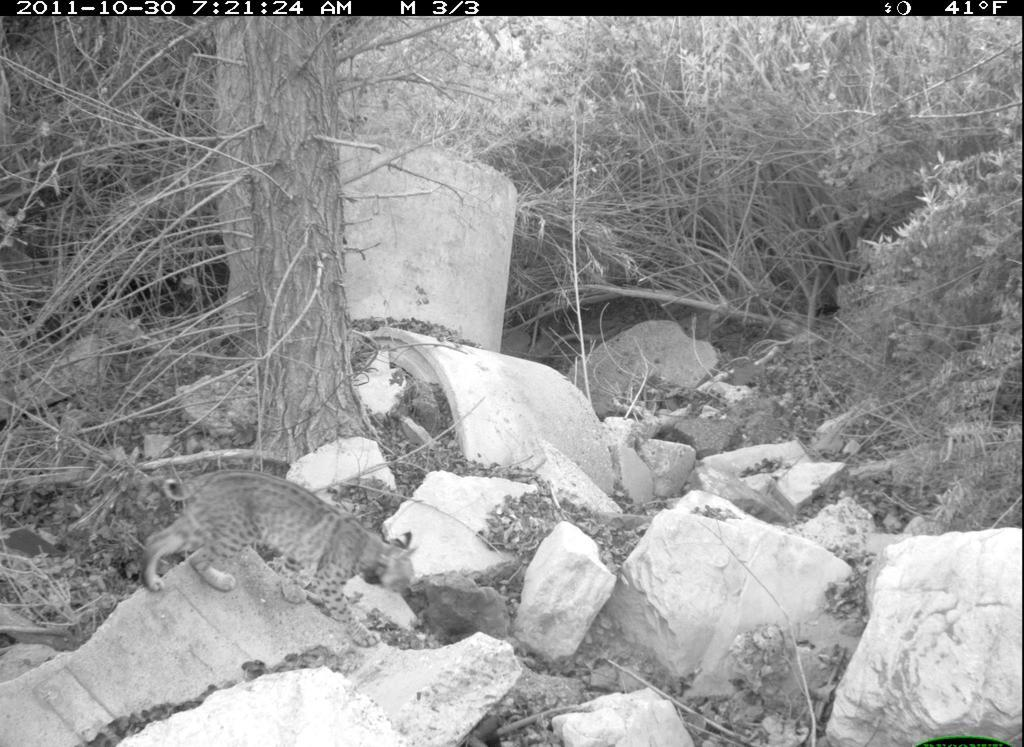bobcat: (113, 408, 456, 655)
